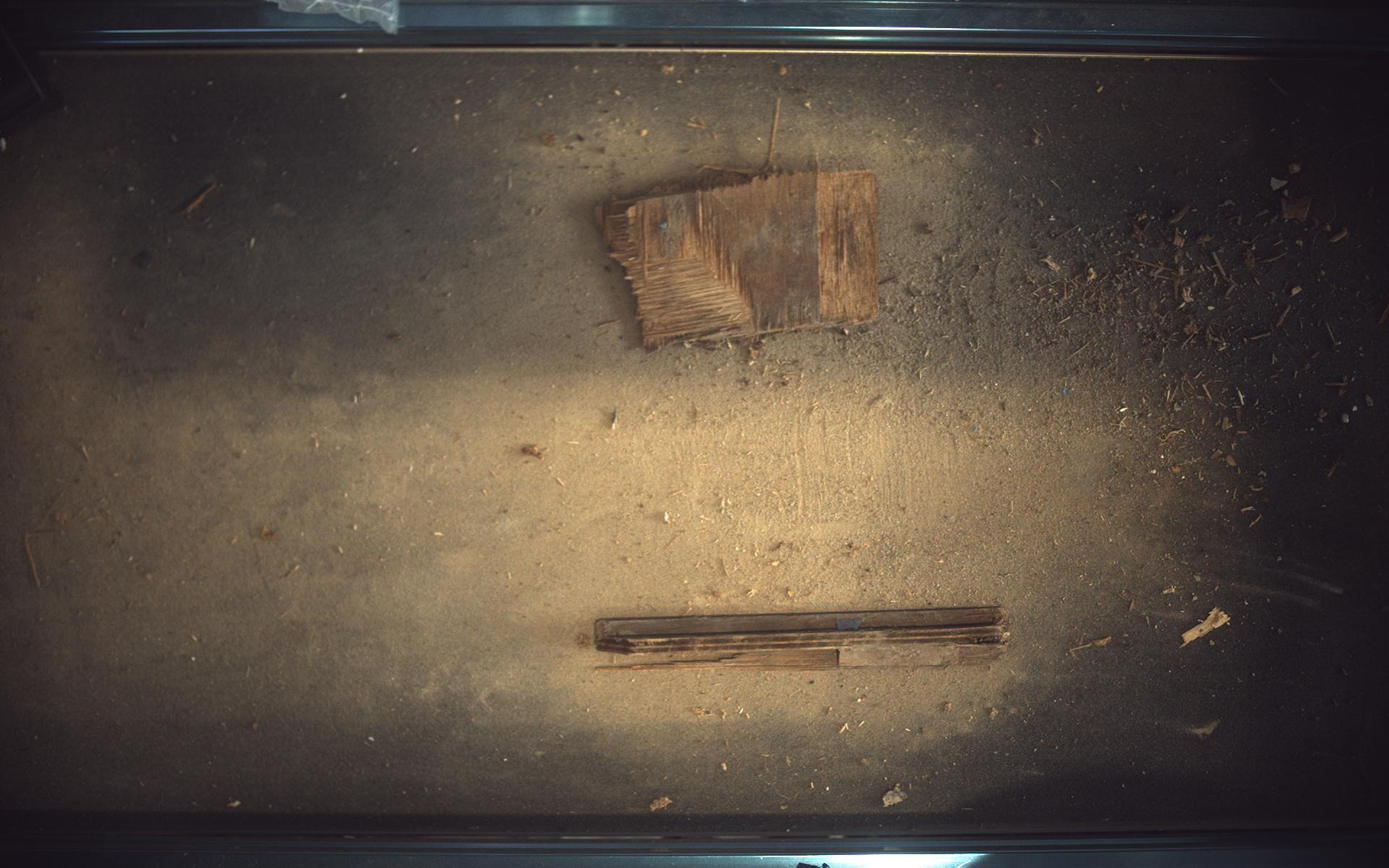wood: (600, 169, 880, 349), (595, 607, 1012, 671)
